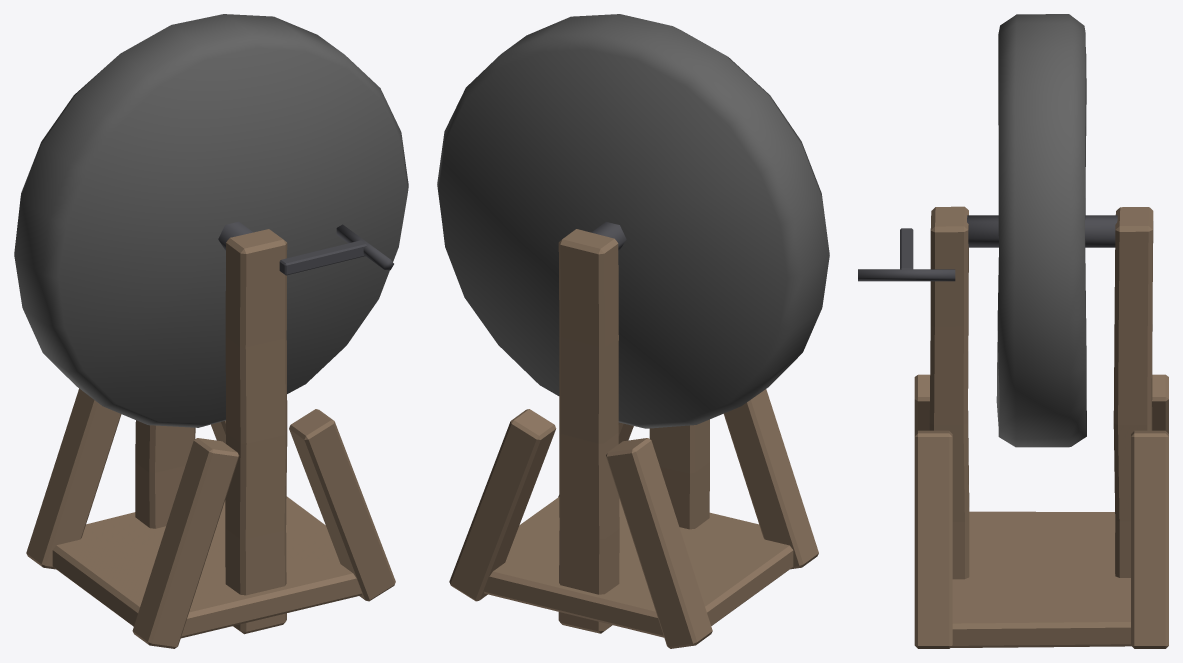
File: grindstone.glb
3 views of the same model, side by side, from view 1: azimuth 30°, elevation 25°; view 2: azimuth 150°, elevation 25°; view 3: azimuth 270°, elevation 25° (orthographic).
Parts seen in each view (by area): view 1: grindstone; view 2: grindstone; view 3: grindstone.
Boxes of the visible parts, <box> form: grindstone: <box>14,14,408,648</box>; grindstone: <box>437,14,829,648</box>; grindstone: <box>858,14,1168,648</box>.
Bounding box in the file's own units: 0.7983 × 1.17 × 0.575.
